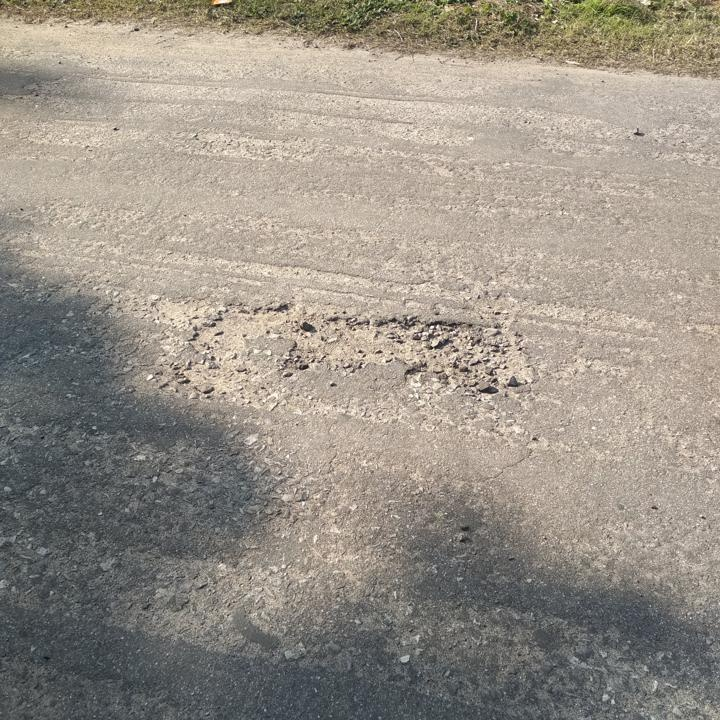pothole: (182, 298, 540, 396)
